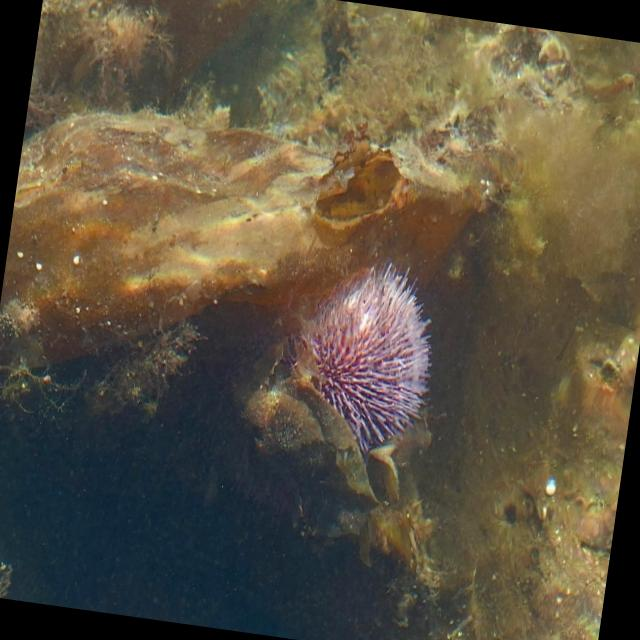Deniz Kestanesi: (271, 245, 447, 460)
